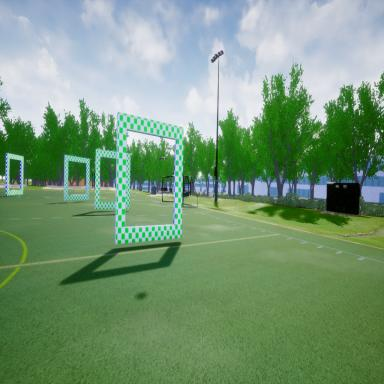gate: (113, 106, 185, 253), (93, 149, 133, 213), (63, 149, 92, 206), (3, 148, 25, 201)
